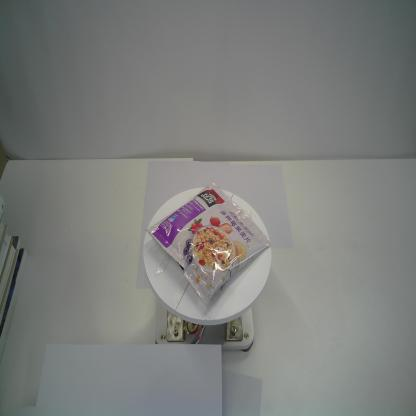Instant Drink: (146, 181, 272, 308)
